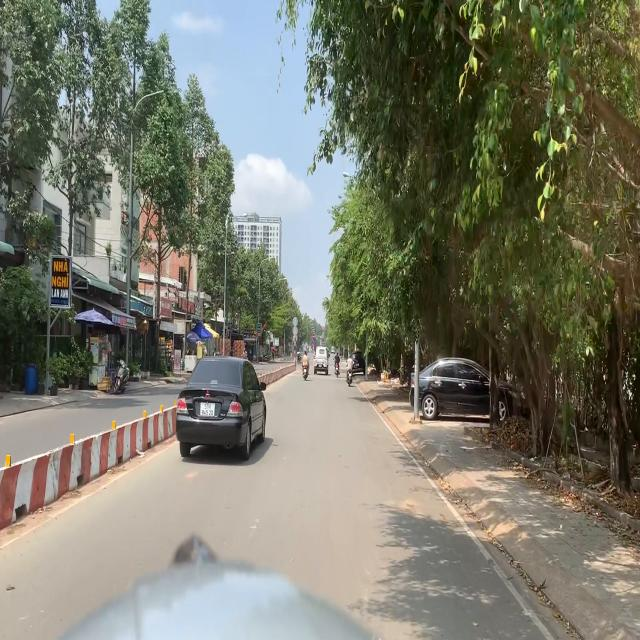Cam nguoc chieu: (312, 334, 315, 339)
Hieu lenh: (312, 339, 315, 343)
